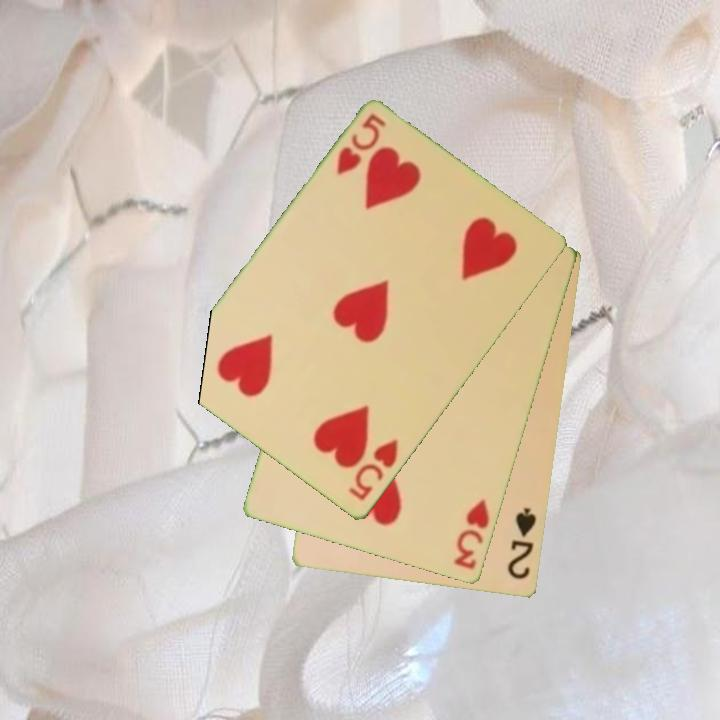2s: (504, 504, 540, 583)
3h: (451, 495, 493, 573)
5h: (344, 436, 402, 504), (333, 110, 389, 179)
